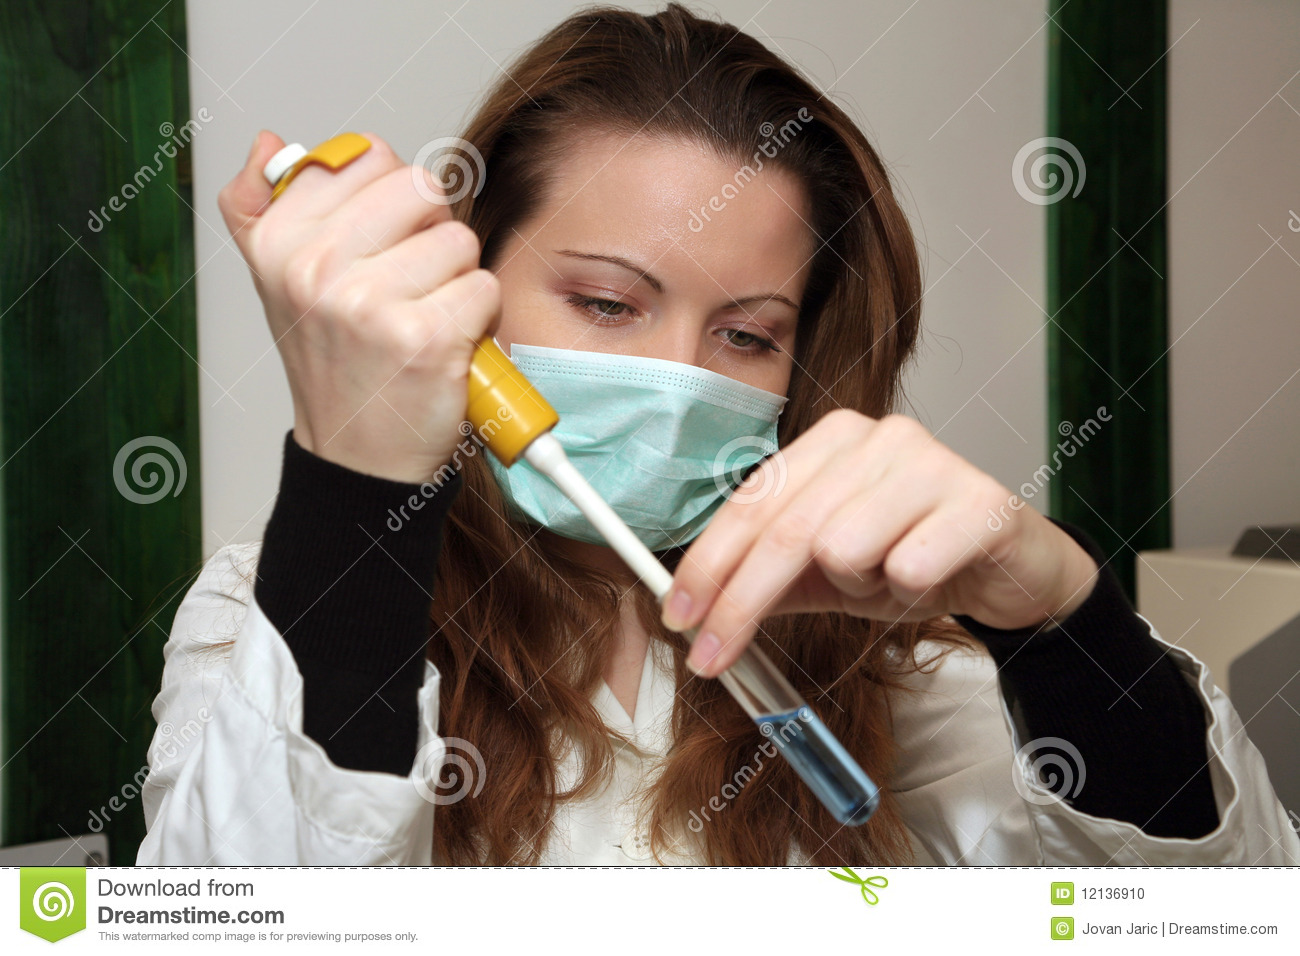mask: (495, 329, 806, 575)
